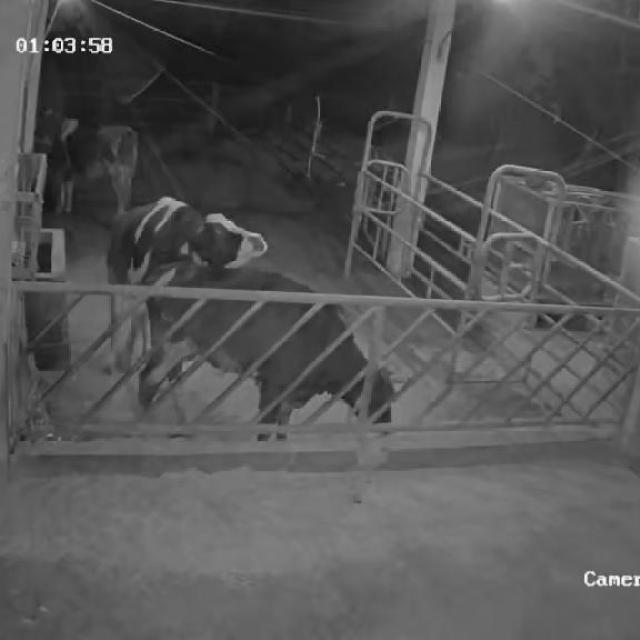standing: (47, 113, 140, 217)
